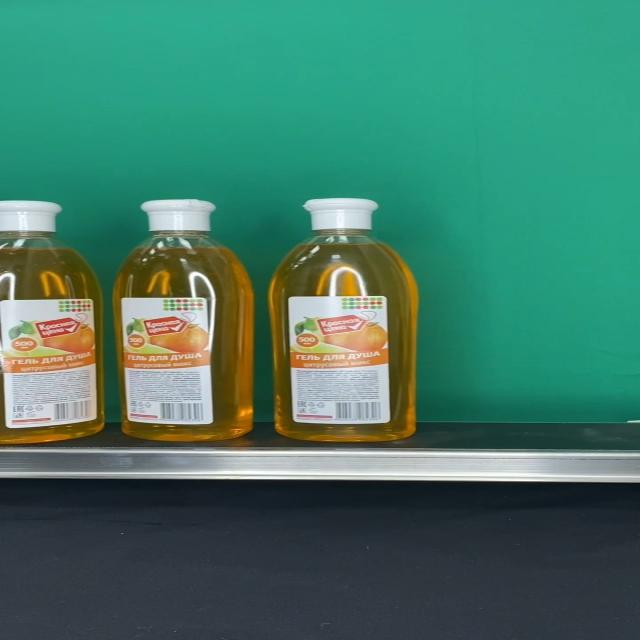Bottle: (269, 198, 418, 442), (112, 200, 254, 442)
Cap: (140, 199, 217, 232), (302, 198, 379, 230)
